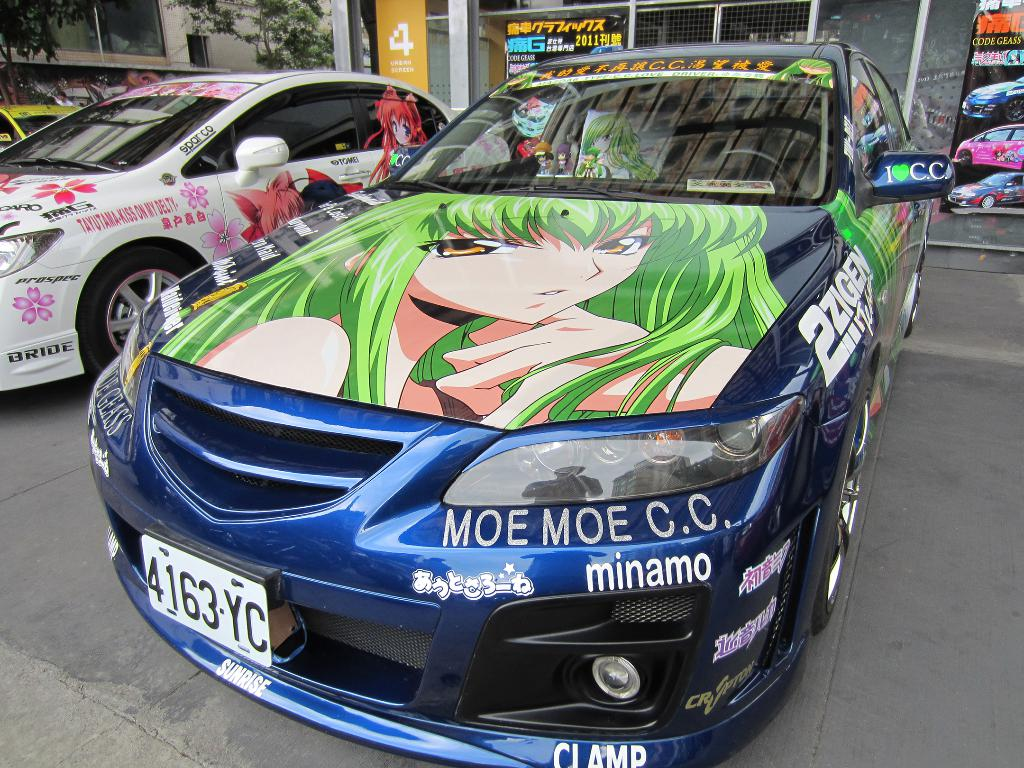Car: (87, 40, 954, 767), (0, 69, 510, 392), (0, 89, 81, 151), (510, 83, 580, 137), (953, 124, 1023, 170), (960, 76, 1023, 124), (945, 172, 1023, 206), (513, 134, 543, 163), (590, 44, 622, 54)
